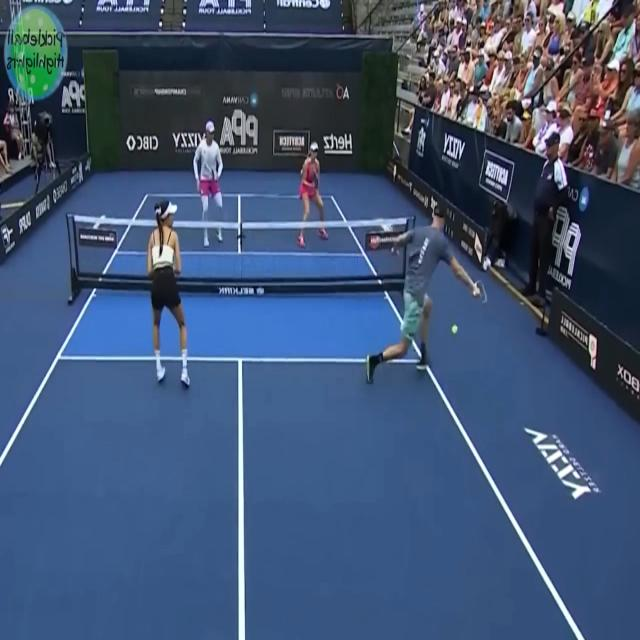Pickleball: (451, 321, 459, 336)
